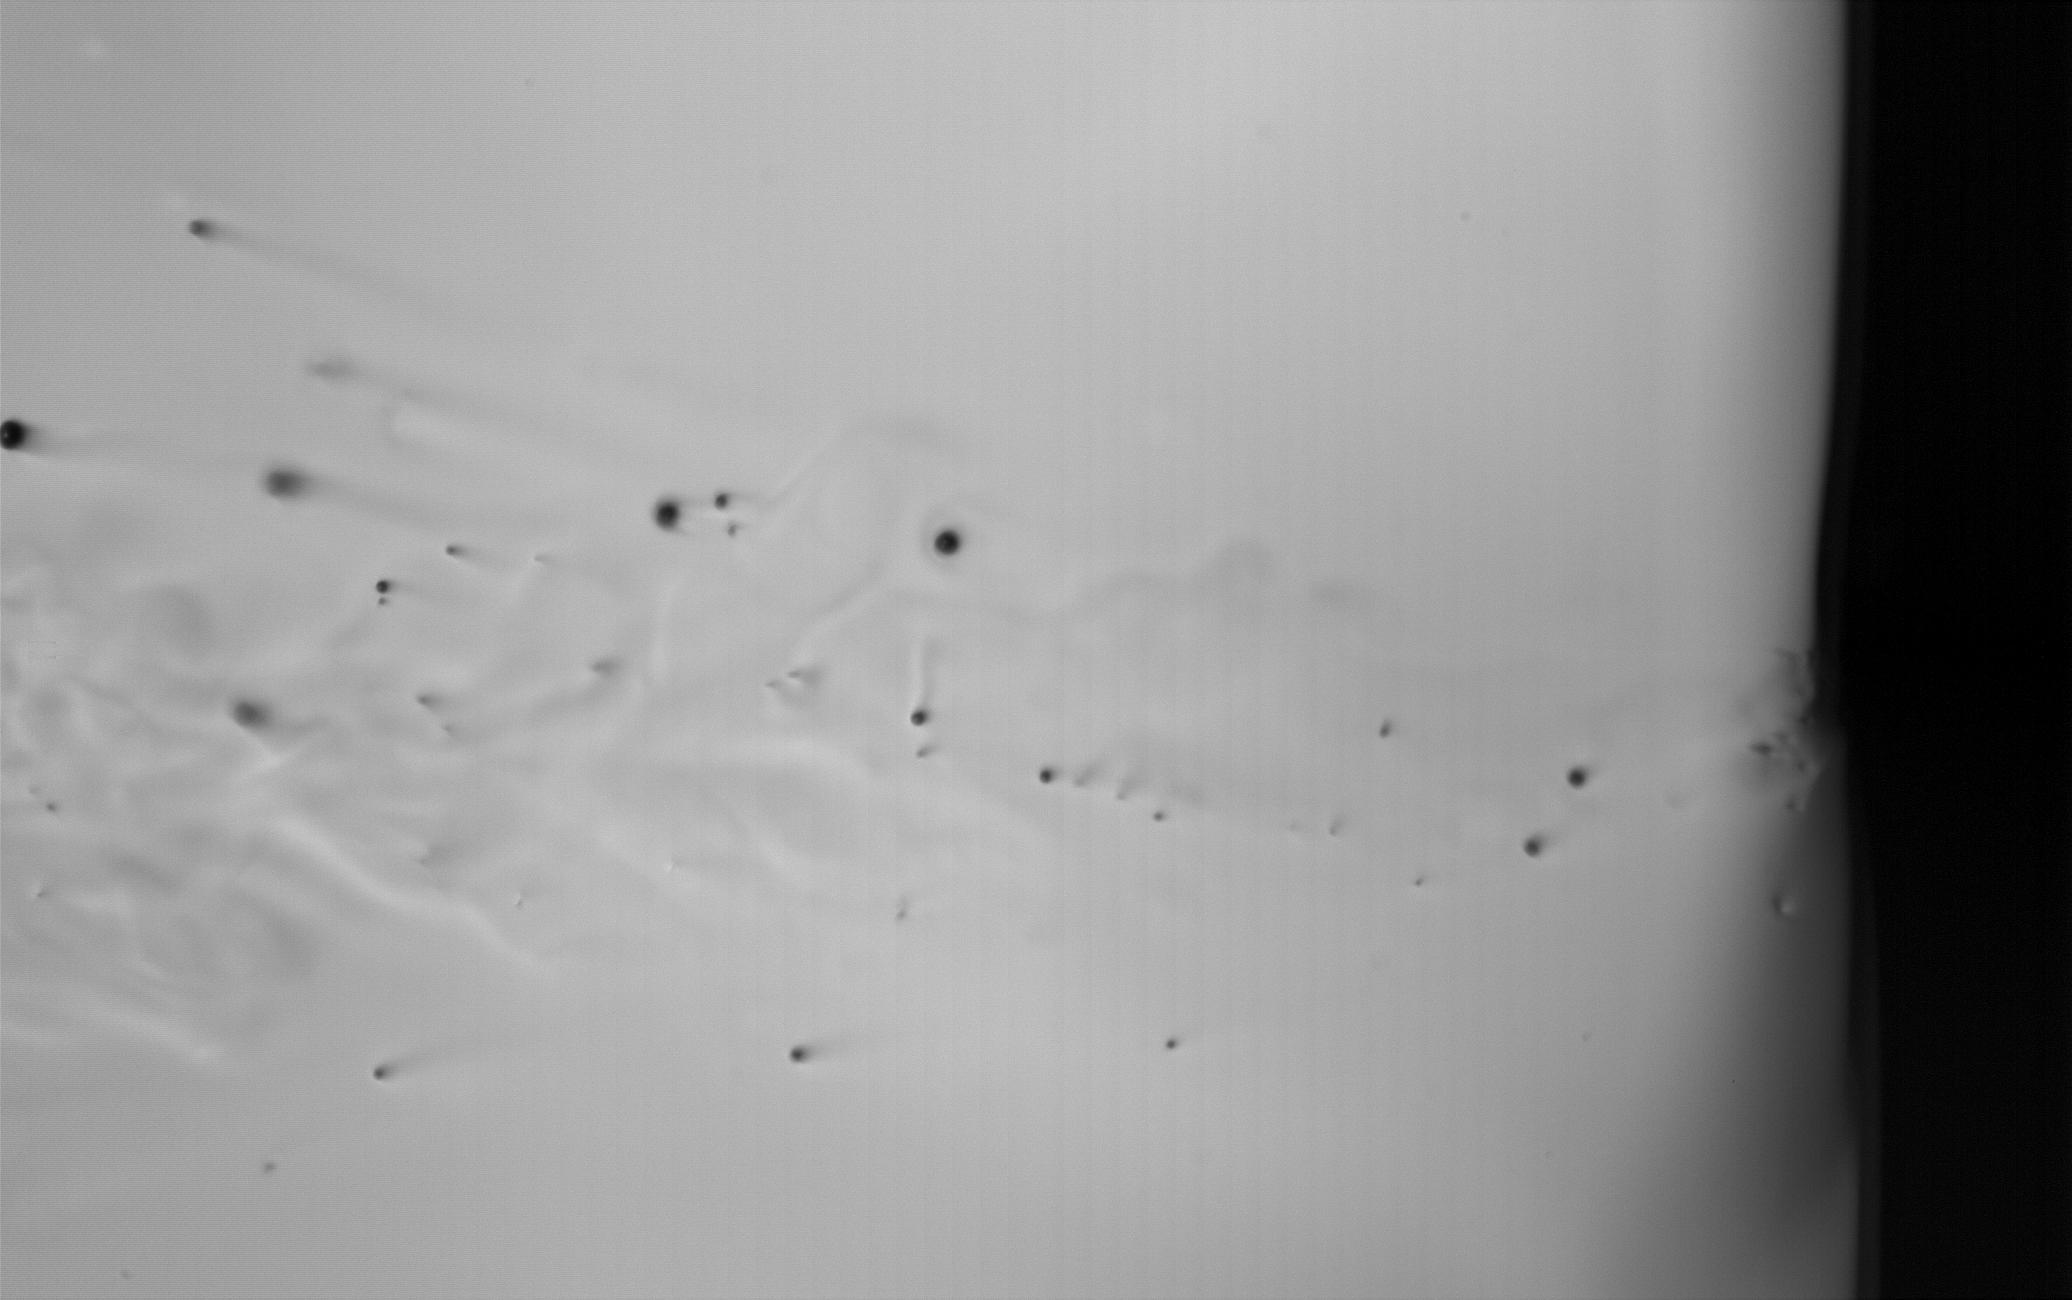Blurry: (222, 693, 332, 761), (249, 458, 320, 514), (299, 352, 364, 383), (409, 677, 445, 723), (1368, 711, 1398, 750), (1147, 801, 1171, 833)
ClassicalEvaporation: (918, 503, 972, 571), (642, 493, 692, 545), (361, 571, 406, 616), (1557, 752, 1593, 804), (367, 1045, 406, 1090), (433, 526, 469, 571), (1517, 824, 1553, 867), (778, 1035, 816, 1072), (1032, 756, 1064, 797), (181, 211, 216, 249), (1154, 1027, 1186, 1063), (903, 702, 934, 735), (711, 487, 737, 520)
